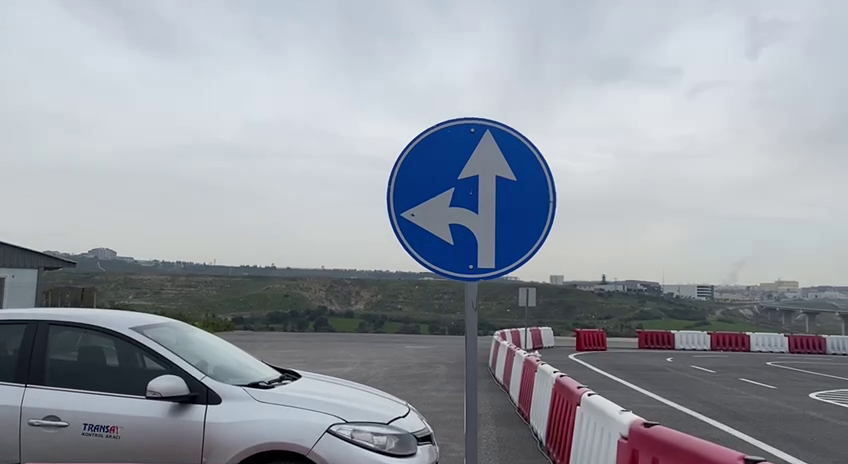forwardAndLeft: (381, 110, 560, 283)
